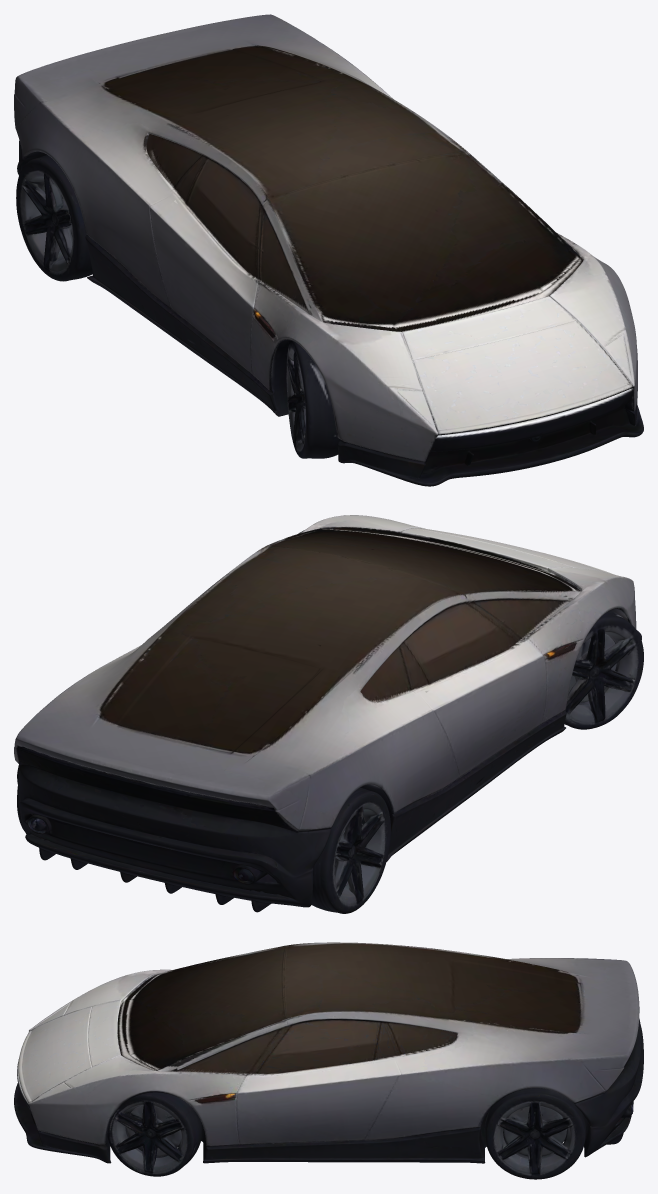
Rendered from tesla-roadster.glb.
3 renders of one model, top to bottom at view 1: azimuth 30°, elevation 25°; view 2: azimuth 150°, elevation 25°; view 3: azimuth 270°, elevation 25°, orthographic. The views are drawn at different scales.
Parts seen in each view (by area): view 1: node_0; view 2: node_0; view 3: node_0.
Boxes of the visible parts, box(x1,y1,x2,y2) form: node_0: box(14, 14, 643, 486); node_0: box(14, 515, 643, 913); node_0: box(14, 942, 643, 1179).
Bounding box in the file's own units: 0.55 × 0.3059 × 1.17.
1 material, 1 textured.
